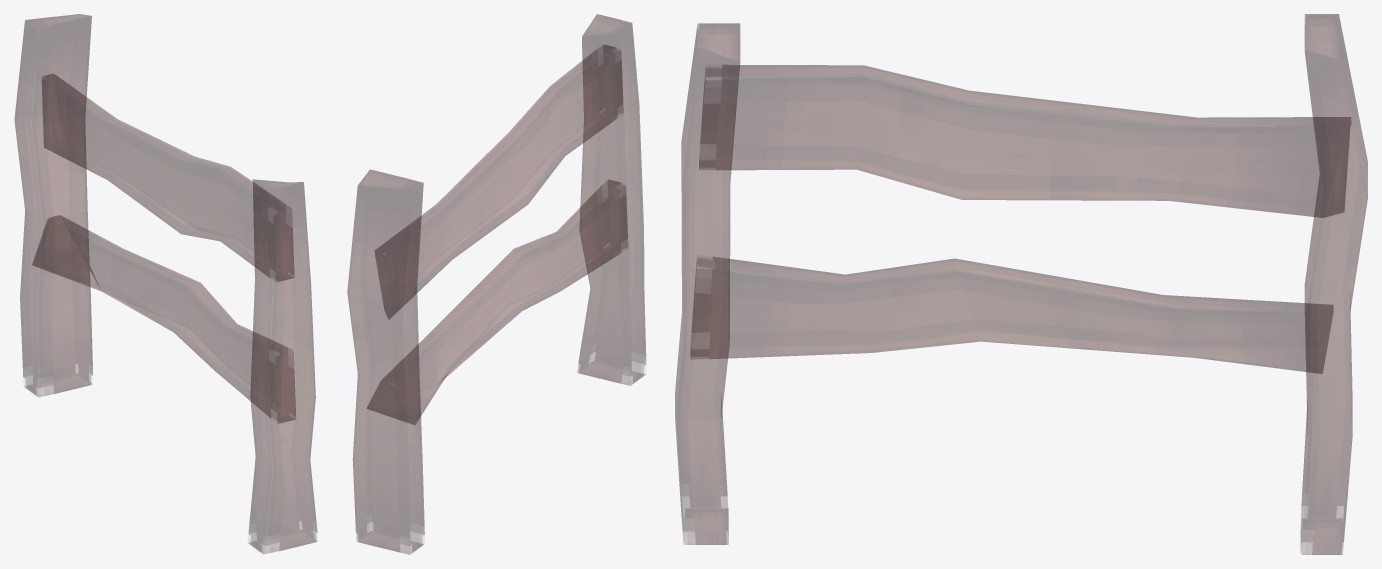
The model's file is fence1.glb.
The picture shows the model from 3 angles, left to right: view 1: azimuth 30°, elevation 25°; view 2: azimuth 150°, elevation 25°; view 3: azimuth 270°, elevation 25°; orthographic projection. The views are drawn at different scales.
Visible parts, largest first — view 1: Cube.007, Cube.006, Cube.001, Cube.002; view 2: Cube.007, Cube.006, Cube.001, Cube.002; view 3: Cube.001, Cube.002, Cube.006, Cube.007.
Boxes of the visible parts, x1,y1,x2,y2 form: Cube.007: [14, 14, 92, 396]; Cube.006: [248, 179, 317, 553]; Cube.001: [42, 74, 293, 281]; Cube.002: [32, 215, 295, 423]; Cube.007: [347, 170, 424, 554]; Cube.006: [577, 14, 645, 385]; Cube.001: [375, 45, 622, 319]; Cube.002: [367, 179, 627, 424]; Cube.001: [699, 65, 1350, 217]; Cube.002: [690, 257, 1333, 373]; Cube.006: [675, 23, 739, 544]; Cube.007: [1301, 14, 1367, 554].
Bounding box in the file's own units: 0.0793 × 0.5089 × 0.6336.
4 materials, 4 textured.
